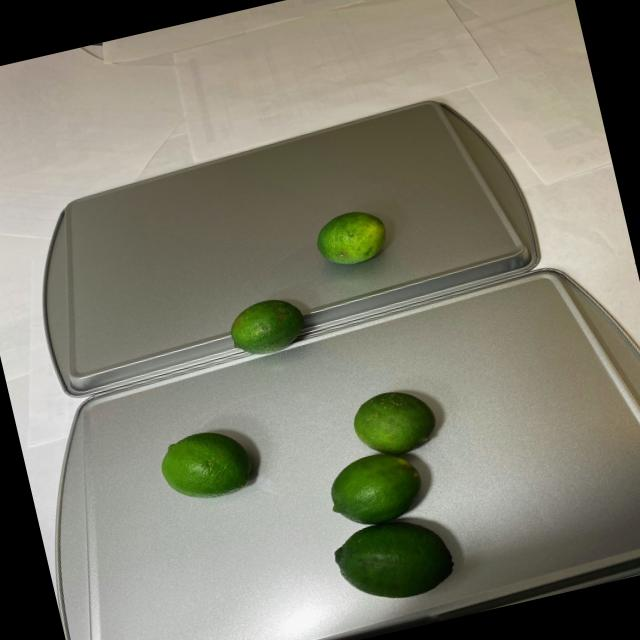lemon: (296, 374, 494, 620), (206, 203, 412, 361), (148, 409, 266, 513)
